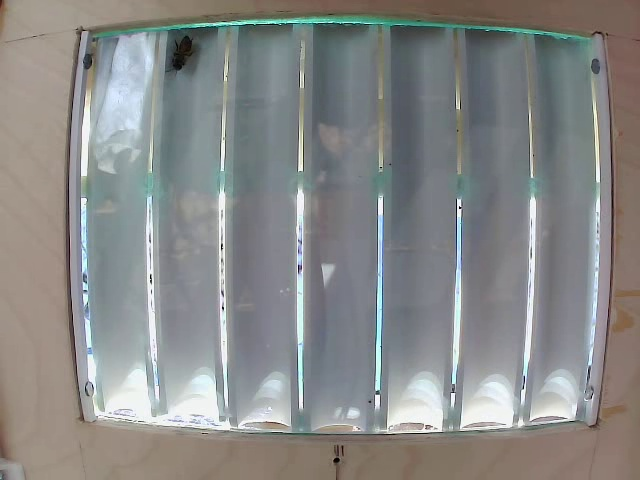bee: (161, 33, 194, 81)
